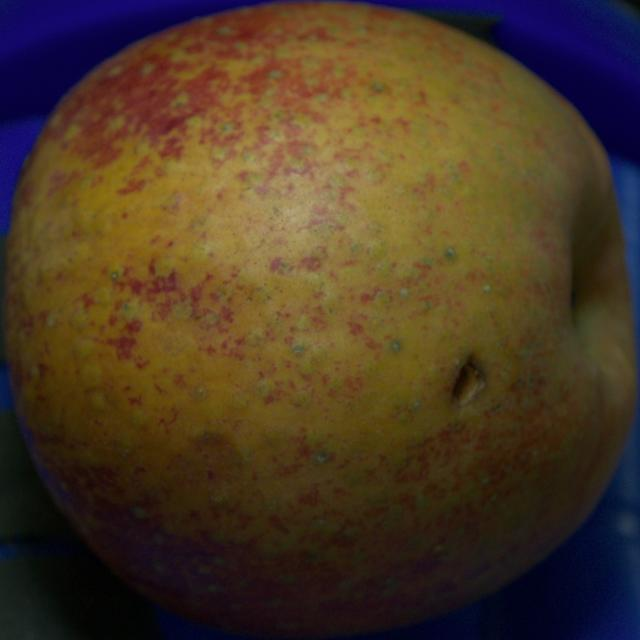apple: (5, 2, 636, 638)
bruise: (164, 432, 251, 502)
scratch: (452, 359, 485, 407)
